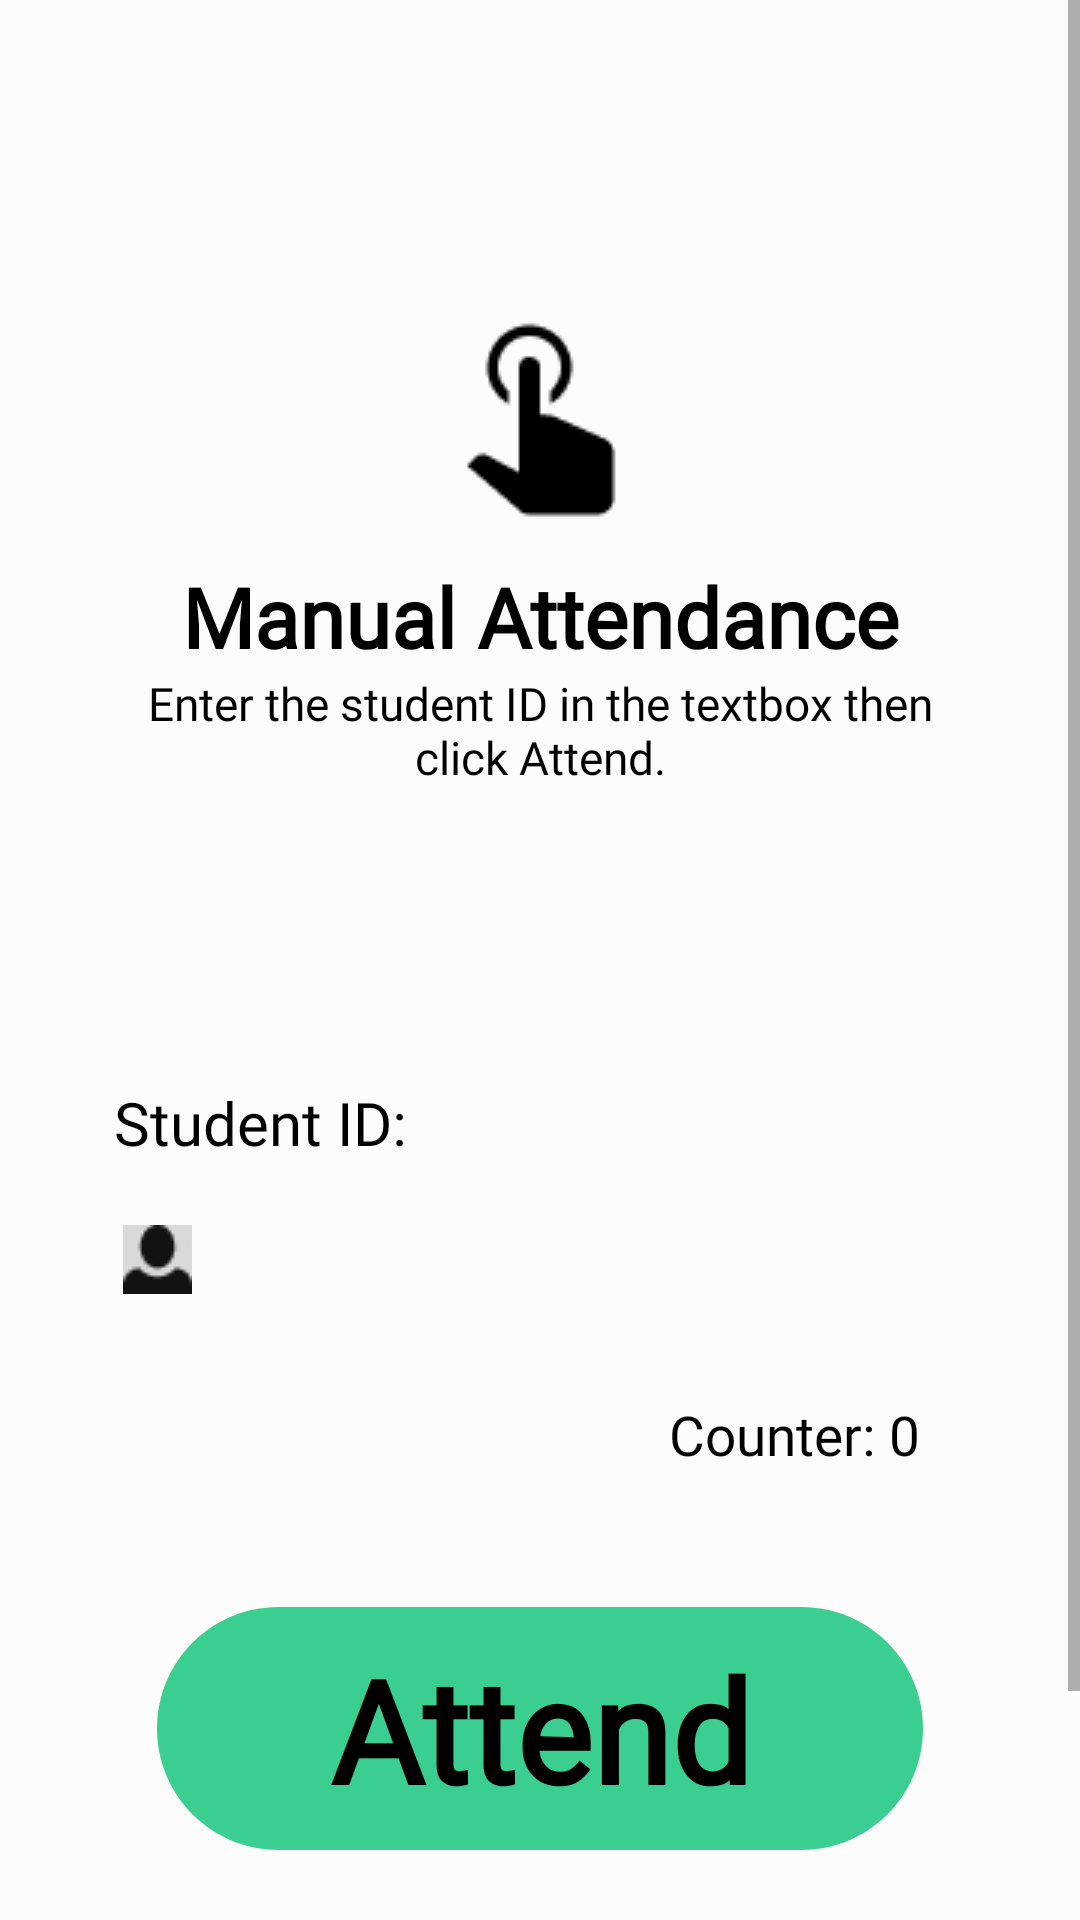

Where to tap for icons on this 1080 × 1920 app screen, as point (x, y):
hand tap: point (541, 420)
